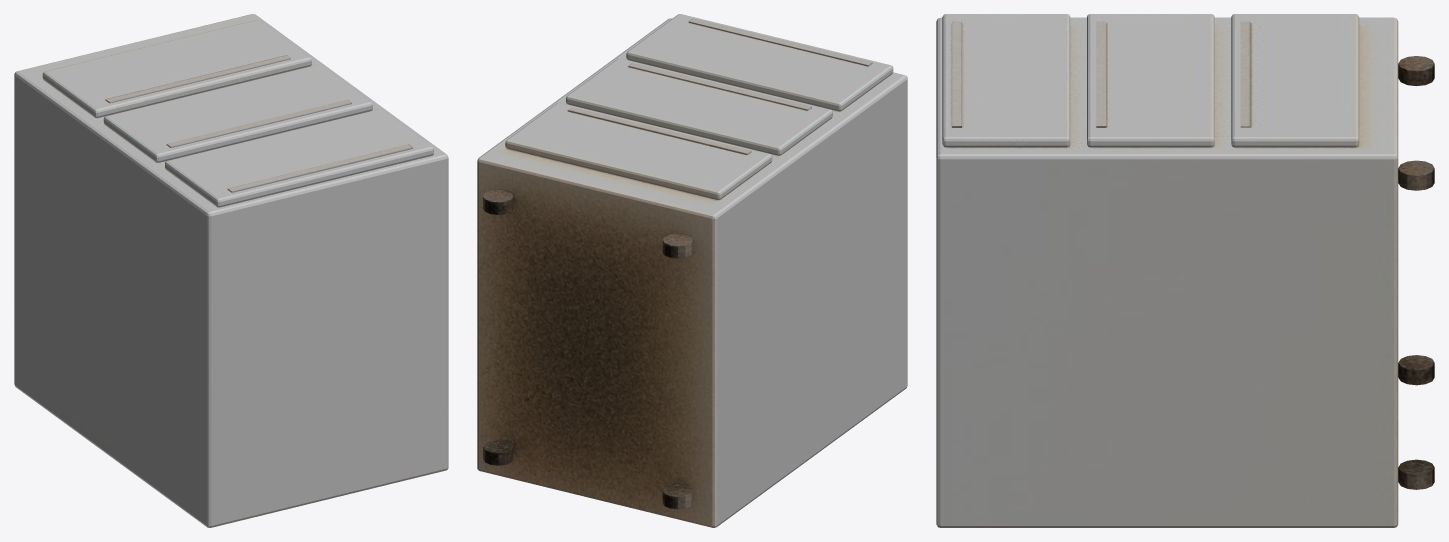
The picture shows the model from 3 angles, left to right: view 1: azimuth 30°, elevation 25°; view 2: azimuth 150°, elevation 25°; view 3: azimuth 270°, elevation 25°; orthographic projection. The views are drawn at different scales.
Parts seen in each view (by area): view 1: E3_final_4.001; view 2: E3_final_4.001; view 3: E3_final_4.001.
Boxes of the visible parts, x1,y1,x2,y2 form: E3_final_4.001: [14, 14, 448, 527]; E3_final_4.001: [477, 14, 907, 527]; E3_final_4.001: [936, 14, 1434, 527].
Size of the model in its own units: 0.4 by 0.516 by 0.604.
1 material, 1 textured.
